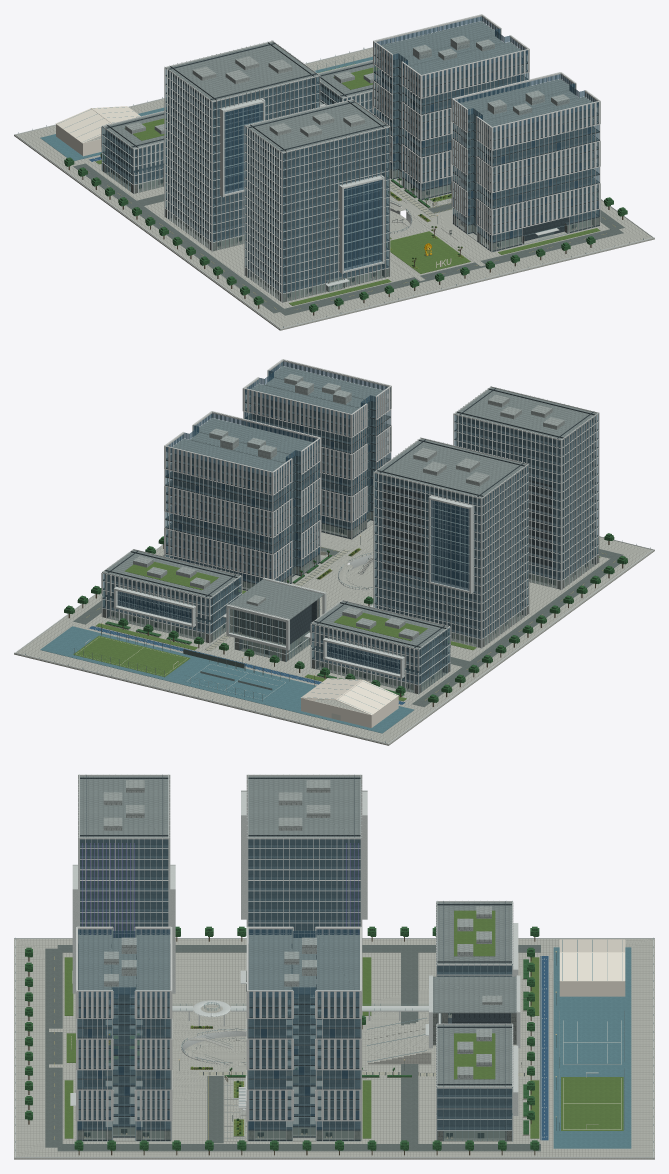
The model's file is browser-campus.glb.
3 renders of one model, top to bottom at view 1: azimuth 30°, elevation 25°; view 2: azimuth 150°, elevation 25°; view 3: azimuth 270°, elevation 25°, orthographic. The views are drawn at different scales.
Visible parts, largest first — view 1: 03_Columns_and_Frames__Silver facade fins (×2), Glass_plane__Glazing_office (×6), 03_Columns_and_Fins__Warm silver aluminium (×2), Perforated_site_paving, Glazing_and_grid__Opaque structural core (×6), 01_MainBody__Opaque facade backing (×2), Roof (×4), Entrance_elevation_Glass_plane__Glazing_office (×2), 07_Roof__Roof membrane (×2), Scenic_facade_recess__Opaque structural core (×4), Reflective_feature_glass (×2), Roads_and_Paving__Asphalt (+26 smaller); view 2: 03_Columns_and_Frames__Silver facade fins (×2), Glass_plane__Glazing_office (×8), 03_Columns_and_Fins__Warm silver aluminium (×2), Glazing_and_grid__Opaque structural core (×8), Perforated_site_paving, Roof (×4), 01_MainBody__Opaque facade backing (×2), Rear_elevation_PROVISIONAL_Glass_plane__Glazing_office (×2), Scenic_facade_recess__Opaque structural core (×4), Sports__Jogging surface, 07_Roof__Roof membrane (×2), Reflective_feature_glass (×3) (+32 smaller); view 3: Perforated_site_paving, Glass_plane__Glazing_office (×4), Roof (×4), 03_Columns_and_Fins__Warm silver aluminium (×2), Tower_core (×2), Roads_and_Paving__Asphalt, 07_Roof__Roof membrane (×2), 01_MainBody__Opaque facade backing (×2), Sports__Jogging surface, 03_Columns_and_Frames__Silver facade fins (×2), Side_1_wing_-1_Glass_plane__Glazing_office (×2), Side_1_wing_1_Glass_plane__Glazing_office (×2) (+42 smaller).
Part boxes in pixels (x1,y1,x2,y2): 03_Columns_and_Frames__Silver facade fins (×2): (164, 40, 390, 302); Glass_plane__Glazing_office (×6): (103, 69, 388, 292); 03_Columns_and_Fins__Warm silver aluminium (×2): (373, 17, 600, 251); Perforated_site_paving: (14, 48, 654, 330); Glazing_and_grid__Opaque structural core (×6): (165, 43, 389, 293); 01_MainBody__Opaque facade backing (×2): (382, 53, 591, 241); Roof (×4): (104, 42, 387, 152); Entrance_elevation_Glass_plane__Glazing_office (×2): (422, 55, 598, 241); 07_Roof__Roof membrane (×2): (377, 21, 597, 131); Scenic_facade_recess__Opaque structural core (×4): (168, 77, 387, 292); Reflective_feature_glass (×2): (224, 103, 382, 270); Roads_and_Paving__Asphalt: (73, 163, 624, 315); 03_Columns_and_Frames__Silver facade fins (×2): (373, 386, 599, 648); Glass_plane__Glazing_office (×8): (103, 415, 597, 684); 03_Columns_and_Fins__Warm silver aluminium (×2): (164, 362, 391, 590); Glazing_and_grid__Opaque structural core (×8): (103, 388, 598, 684); Perforated_site_paving: (14, 522, 654, 745); Roof (×4): (104, 387, 596, 648); 01_MainBody__Opaque facade backing (×2): (172, 396, 382, 581); Rear_elevation_PROVISIONAL_Glass_plane__Glazing_office (×2): (165, 395, 350, 583); Scenic_facade_recess__Opaque structural core (×4): (376, 422, 595, 637); Sports__Jogging surface: (40, 626, 414, 733); 07_Roof__Roof membrane (×2): (167, 366, 383, 476); Reflective_feature_glass (×3): (117, 500, 469, 674); Perforated_site_paving: (14, 939, 654, 1159); Glass_plane__Glazing_office (×4): (80, 839, 511, 1129); Roof (×4): (80, 776, 511, 1086); 03_Columns_and_Fins__Warm silver aluminium (×2): (76, 927, 361, 1141); Tower_core (×2): (86, 839, 353, 1003); Roads_and_Paving__Asphalt: (45, 945, 540, 1151); 07_Roof__Roof membrane (×2): (78, 935, 359, 997); 01_MainBody__Opaque facade backing (×2): (84, 994, 354, 1127); Sports__Jogging surface: (553, 947, 631, 1148); 03_Columns_and_Frames__Silver facade fins (×2): (72, 774, 367, 1017); Side_1_wing_-1_Glass_plane__Glazing_office (×2): (136, 998, 360, 1129); Side_1_wing_1_Glass_plane__Glazing_office (×2): (78, 998, 291, 1129).
Bounding box in the file's own units: 208 × 85.6 × 256.
Materials: 418 (296 with a texture image).
